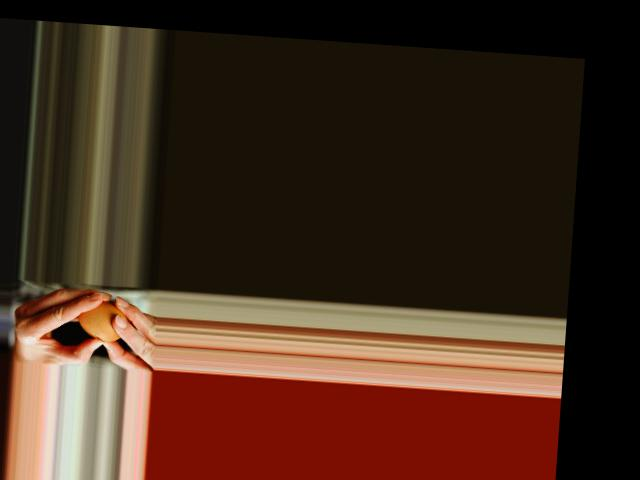egg: (77, 298, 129, 343)
